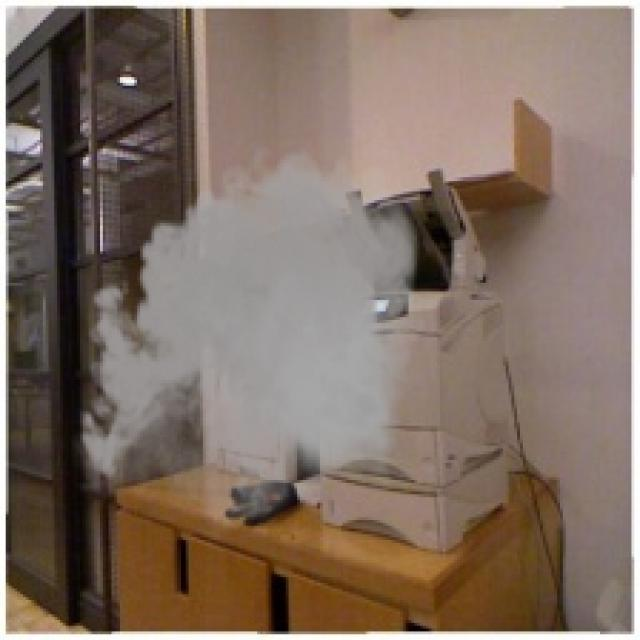smoke: (69, 137, 432, 543)
